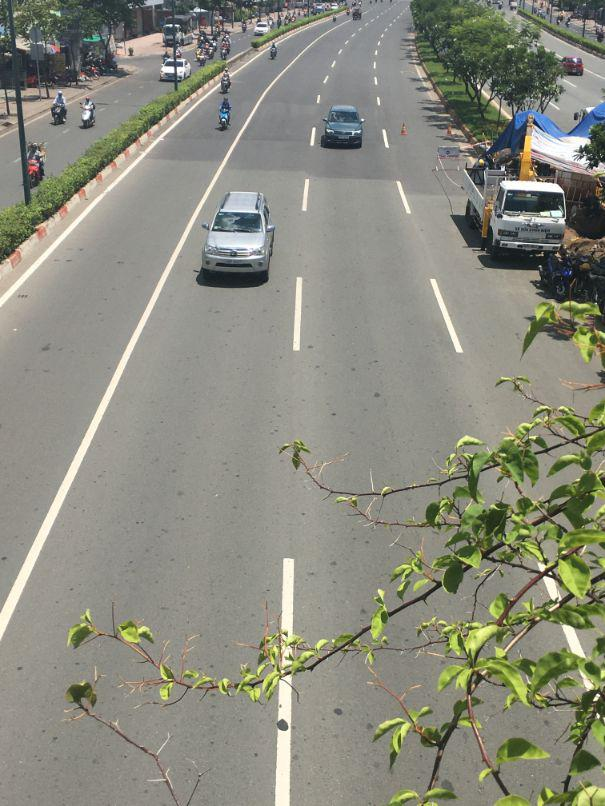car: (199, 191, 278, 284), (322, 104, 365, 150), (162, 57, 190, 82), (561, 54, 584, 76), (254, 22, 270, 38)
motorbike: (216, 95, 231, 129), (51, 97, 68, 125), (80, 100, 96, 127)
truck: (478, 159, 566, 261)
